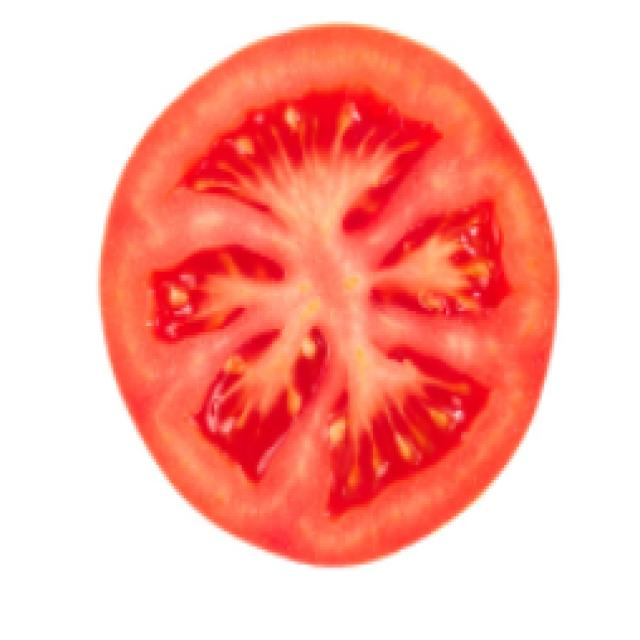Tomato: (101, 39, 562, 572)
